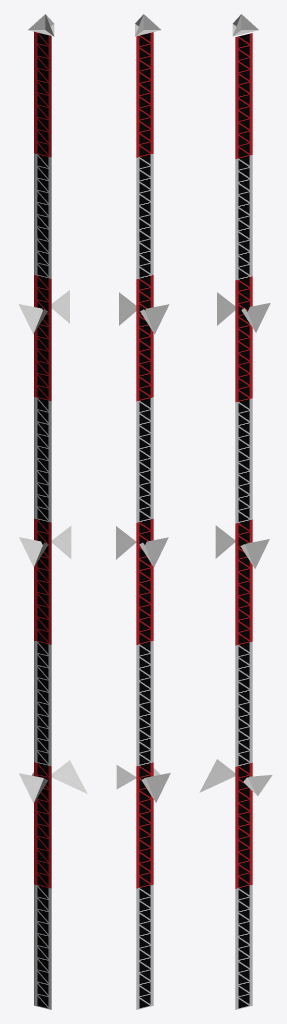
File: tower-radio-guy-207m-cbj_LOD05.gltf
The picture shows the model from 3 angles, left to right: view 1: azimuth 90°, elevation 25°; view 2: azimuth 150°, elevation 25°; view 3: azimuth 270°, elevation 25°; orthographic projection.
Parts seen in each view (by area): view 1: post.005; view 2: post.005; view 3: post.005.
Boxes of the visible parts, <box> form: post.005: <box>18,14,87,1009</box>; post.005: <box>116,14,170,1009</box>; post.005: <box>199,14,272,1009</box>.
Size of the model in its own units: 12.07 by 212 by 14.23.
